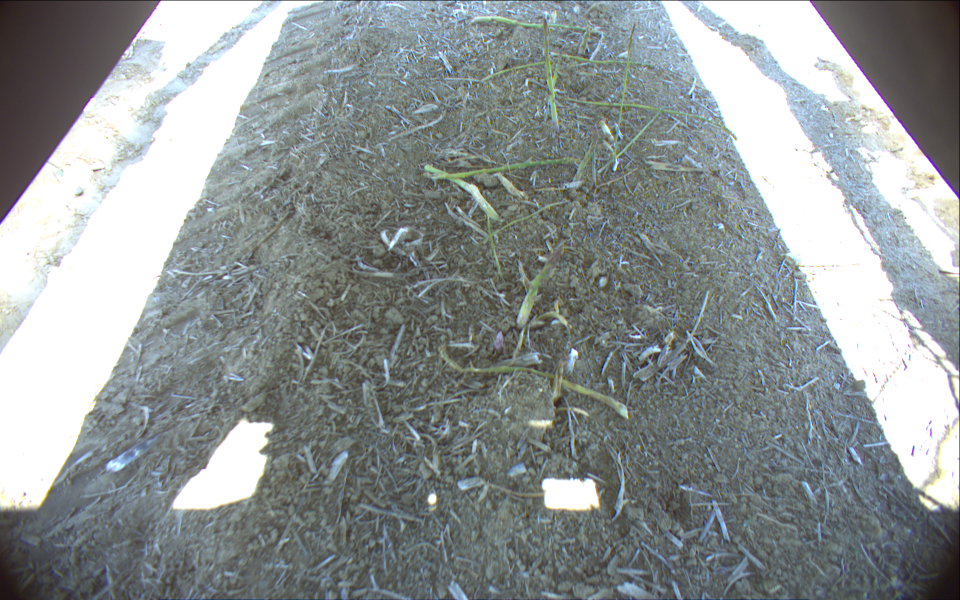aspa: (513, 244, 563, 333), (540, 17, 563, 134)
